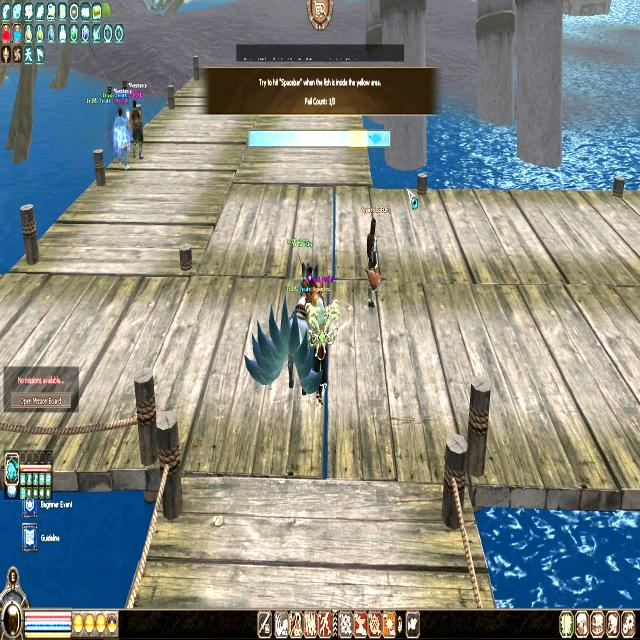fishes: (368, 129, 382, 150)
